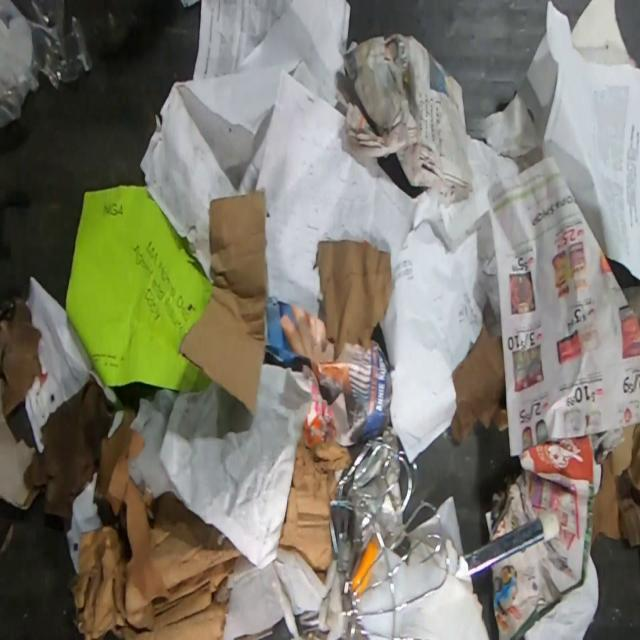cardboard: (68, 409, 241, 640), (176, 189, 270, 419), (277, 438, 354, 583), (590, 418, 640, 547)
metal: (327, 432, 449, 640), (462, 506, 562, 573)
rigid_plastic: (0, 0, 94, 128)
